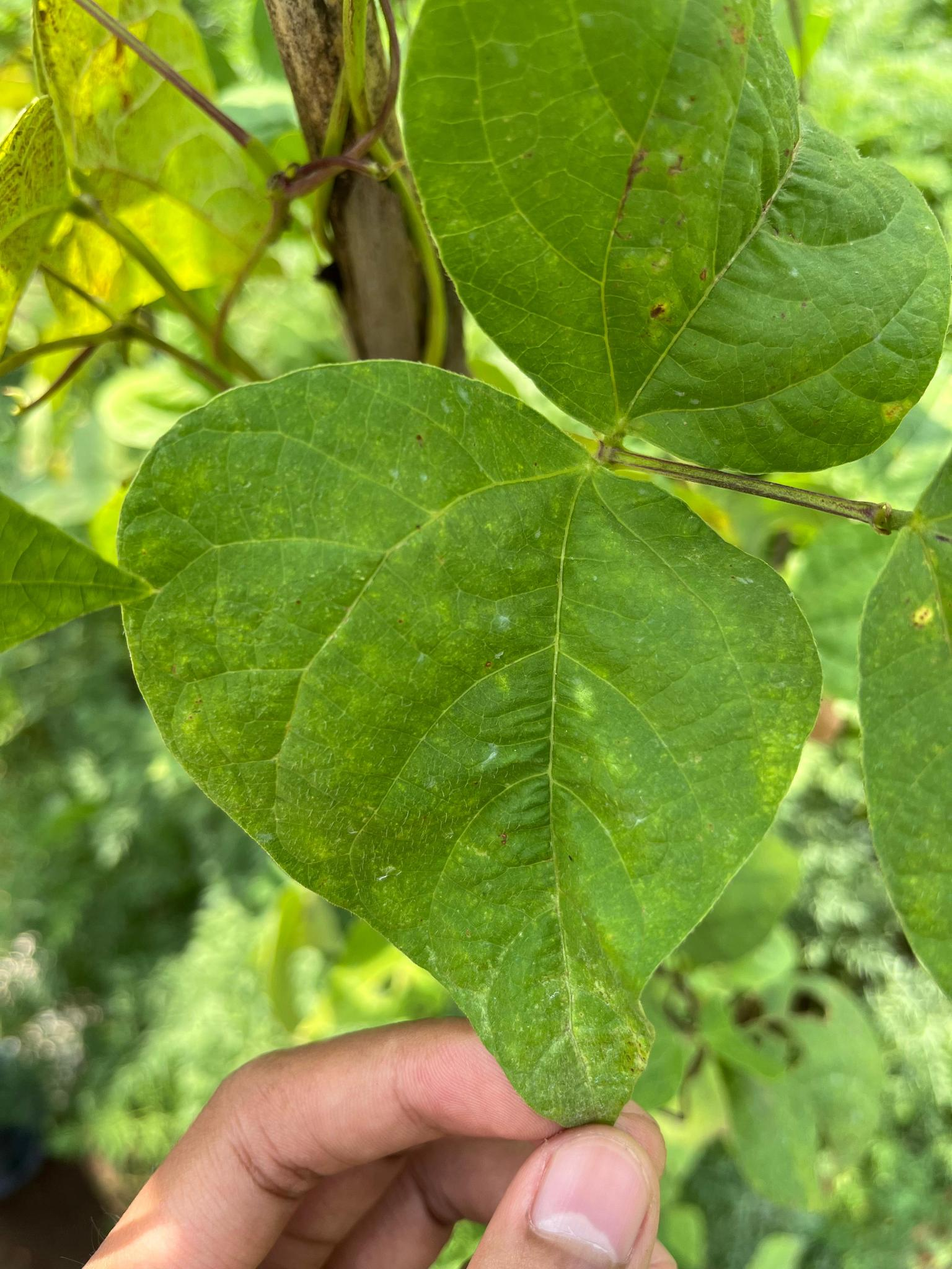sehat: (108, 350, 828, 1114)
